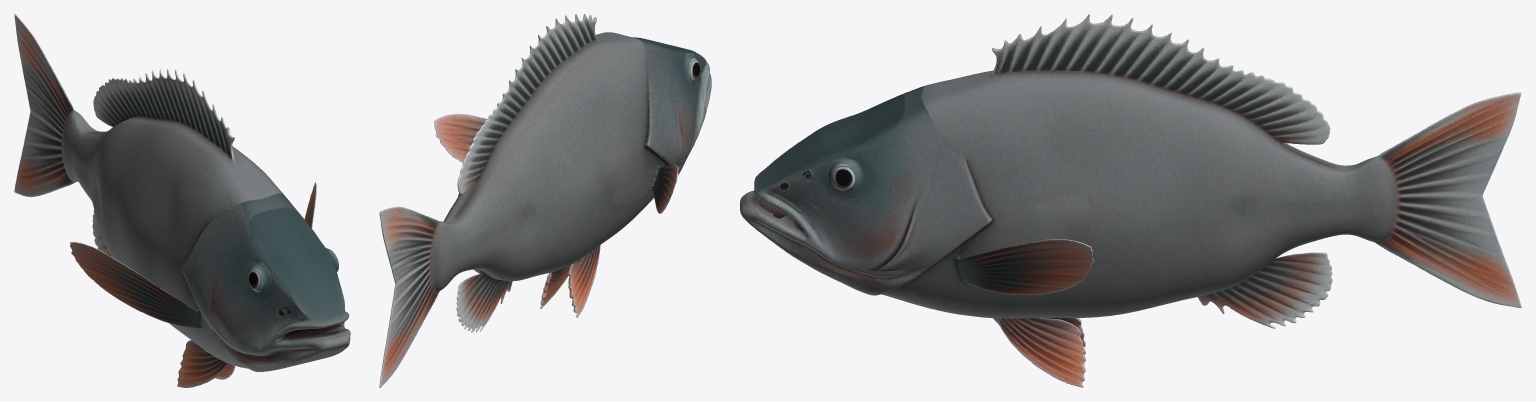
Rendered from asset.glb.
The picture shows the model from 3 angles, left to right: view 1: azimuth 30°, elevation 25°; view 2: azimuth 150°, elevation 25°; view 3: azimuth 270°, elevation 25°; orthographic projection. The views are drawn at different scales.
Bounding box in the file's own units: 0.8317 × 0.9733 × 1.9.
Materials: 1 (1 with a texture image).
